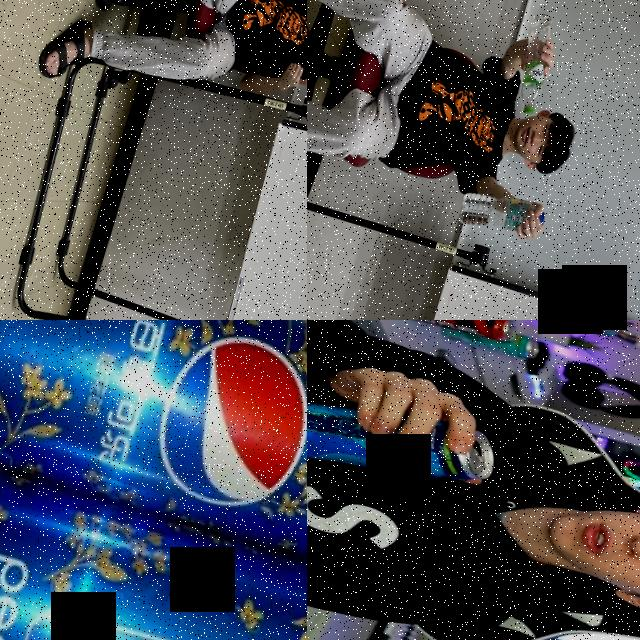bottle: (504, 10, 560, 117), (454, 182, 547, 245)
can: (0, 320, 307, 593), (0, 448, 307, 640), (307, 372, 501, 508), (435, 320, 544, 365), (403, 320, 517, 345)
